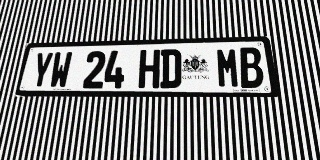2: (83, 51, 106, 88)
4: (103, 50, 126, 88)
B: (238, 47, 265, 88)
D: (160, 49, 181, 88)
H: (138, 49, 160, 88)
M: (216, 48, 240, 88)
W: (48, 52, 73, 88)
Y: (29, 52, 54, 88)
